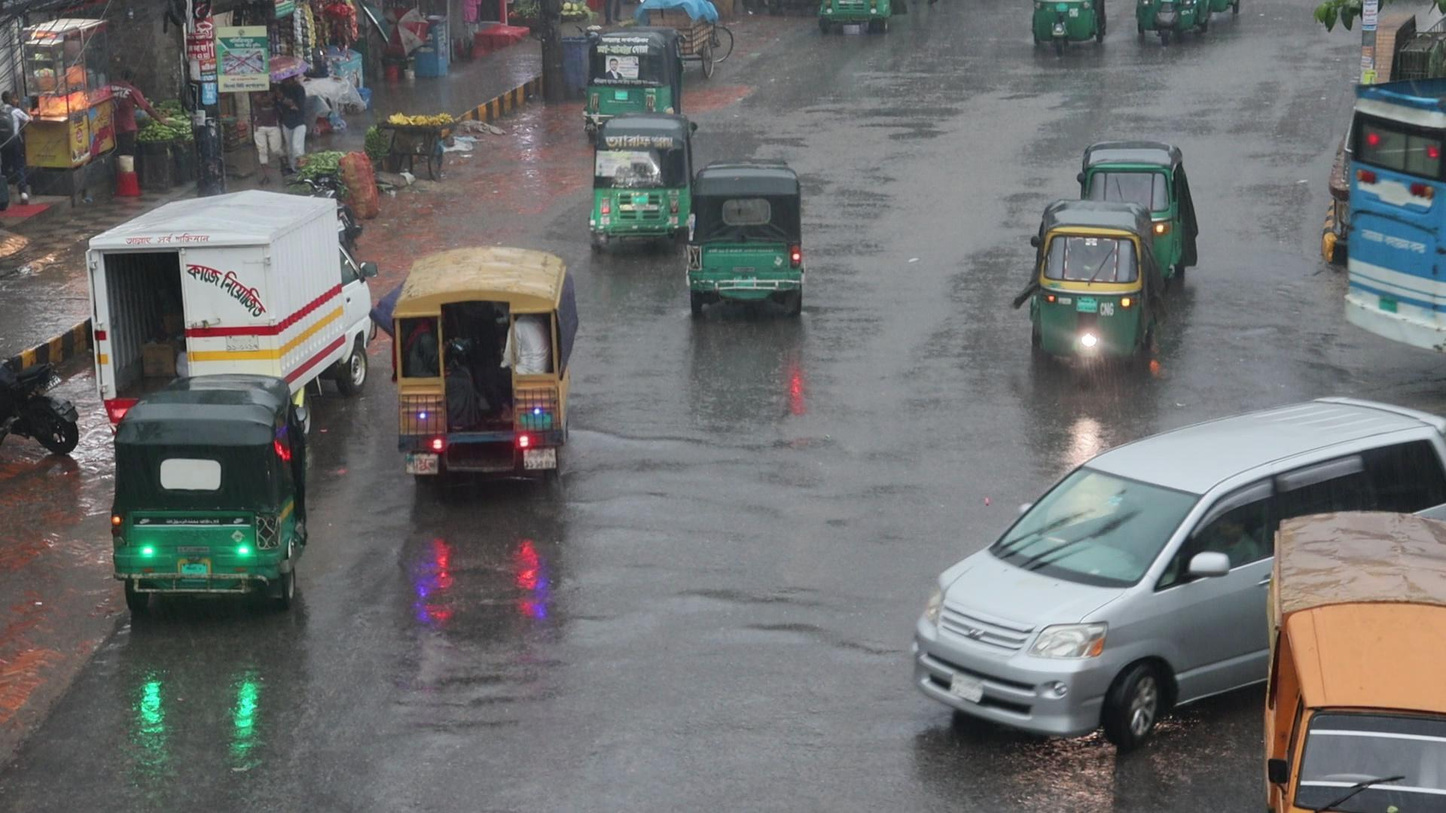Car: (914, 379, 1441, 752)
Truck: (1256, 473, 1446, 813), (381, 238, 577, 487)
